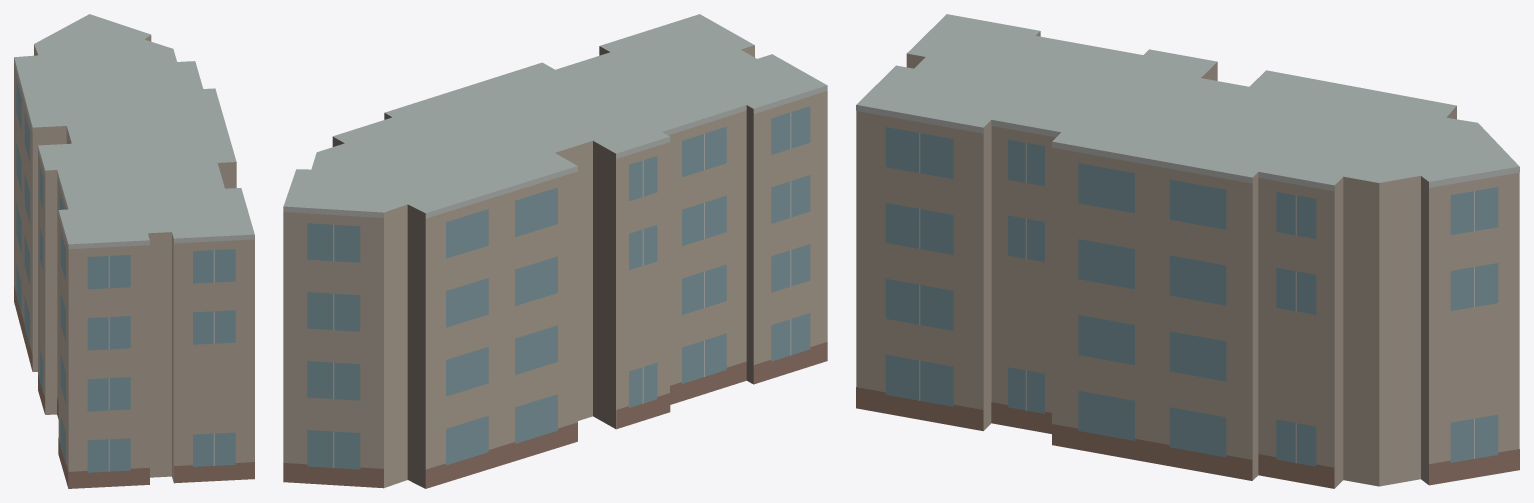
Rendered from survey-upis-32602292.glb.
The picture shows the model from 3 angles, left to right: view 1: azimuth 30°, elevation 25°; view 2: azimuth 150°, elevation 25°; view 3: azimuth 270°, elevation 25°; orthographic projection. The views are drawn at different scales.
Visible parts, largest first — view 1: survey-upis-32602292.tmp; view 2: survey-upis-32602292.tmp; view 3: survey-upis-32602292.tmp.
Boxes of the visible parts, box(x1,y1,x2,y2) form: survey-upis-32602292.tmp: box(14, 14, 254, 488); survey-upis-32602292.tmp: box(283, 14, 827, 488); survey-upis-32602292.tmp: box(856, 14, 1519, 488).
Size of the model in its own units: 14.91 by 12.3 by 24.39.
